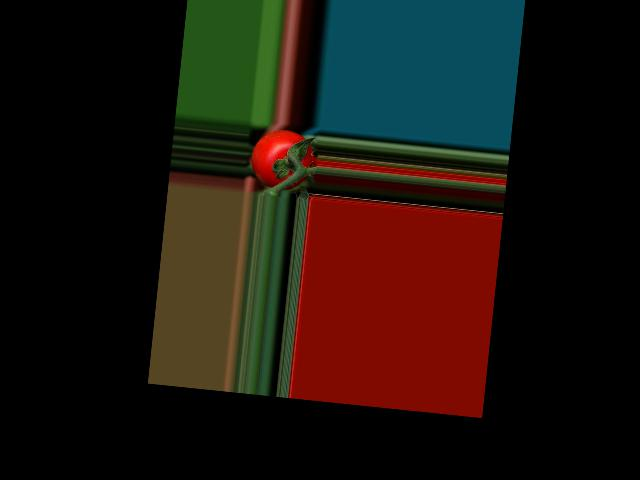tomato: (249, 126, 319, 193)
